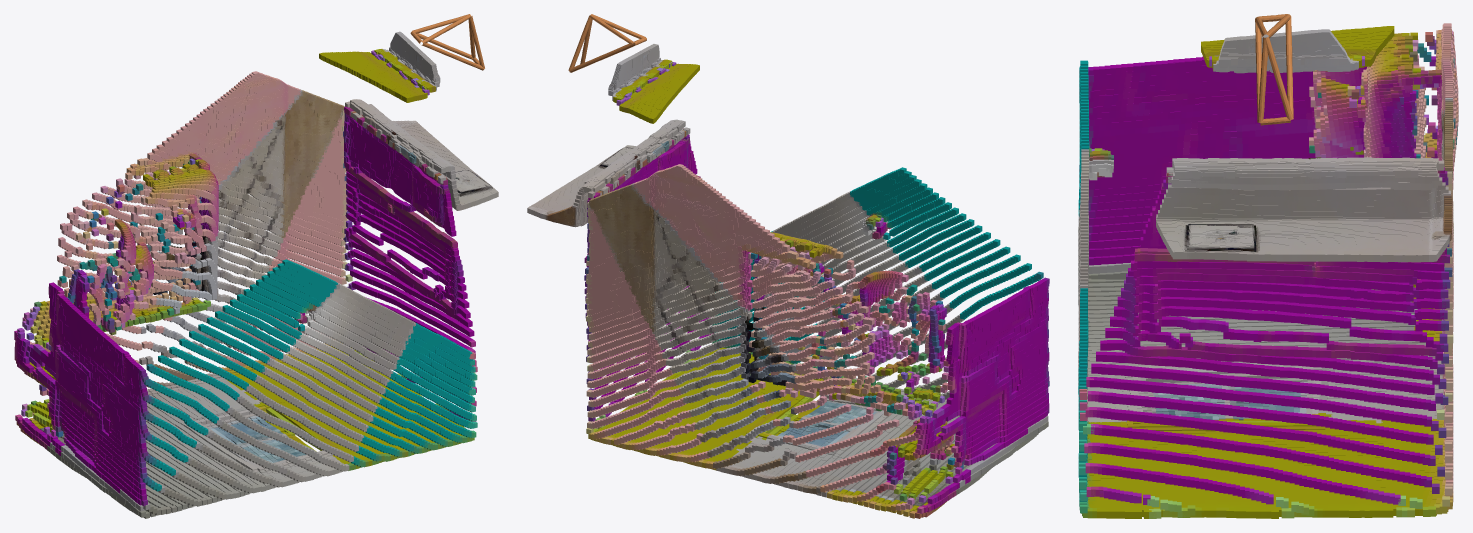
3 views of the same model, side by side, from view 1: azimuth 30°, elevation 25°; view 2: azimuth 150°, elevation 25°; view 3: azimuth 270°, elevation 25° (orthographic). The views are drawn at different scales.
Bounding box in the file's own units: 4.45 × 3.86 × 2.49.
